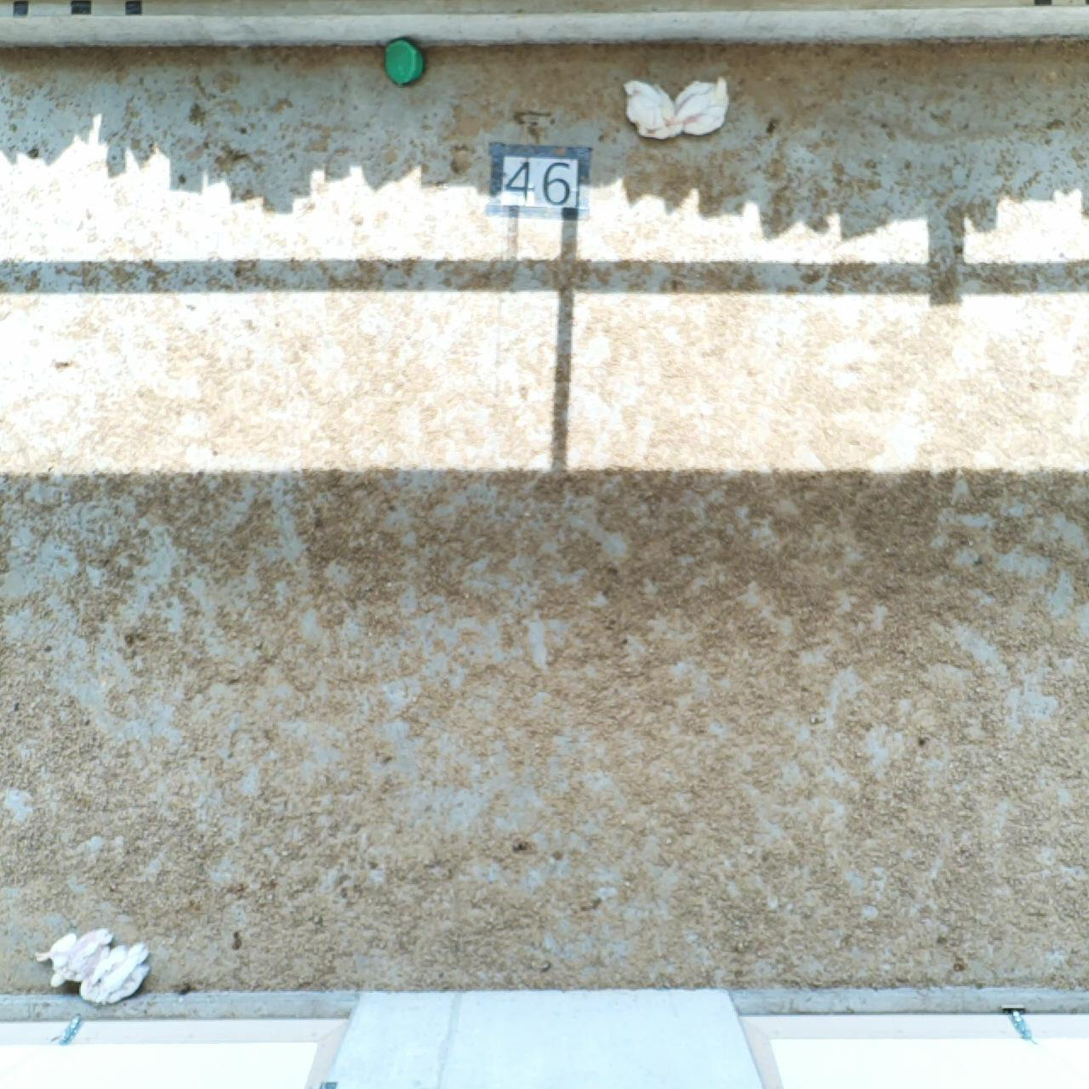chicken: (75, 942, 151, 1008), (33, 931, 119, 987), (624, 78, 680, 140), (679, 80, 731, 135)
